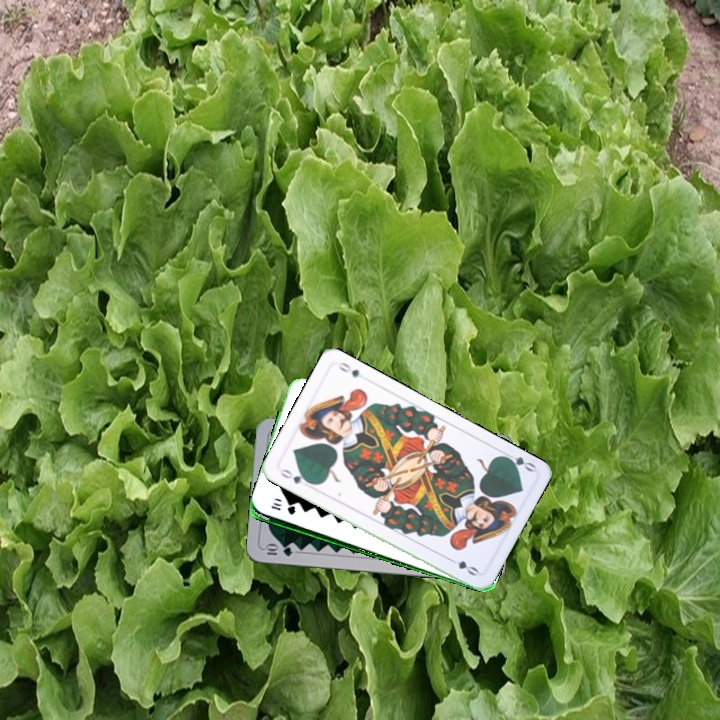G10: (261, 542, 295, 559), (267, 502, 298, 517)
GO: (498, 448, 538, 474), (276, 465, 314, 487)
